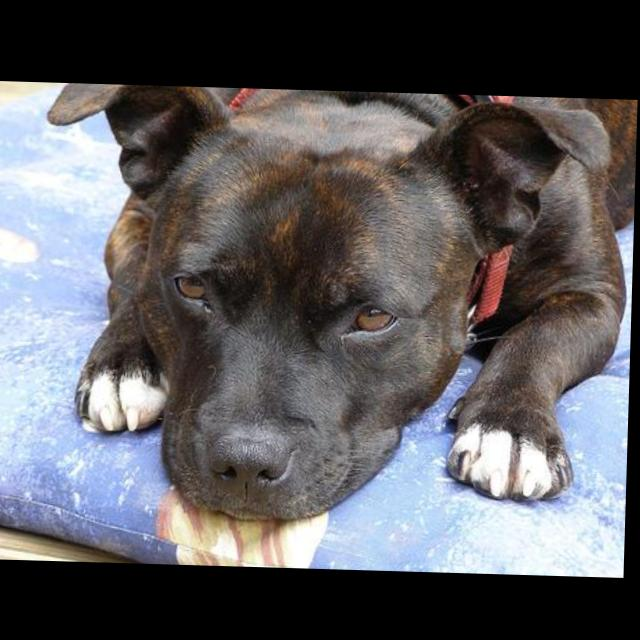amstaff: (38, 83, 639, 529)
